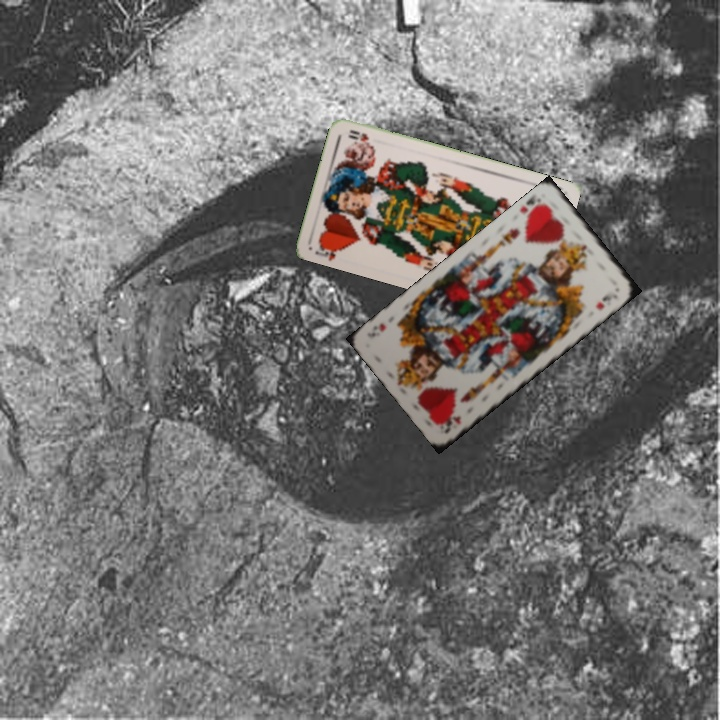HK: (515, 191, 548, 224), (438, 411, 463, 436)
HO: (311, 239, 345, 263)
